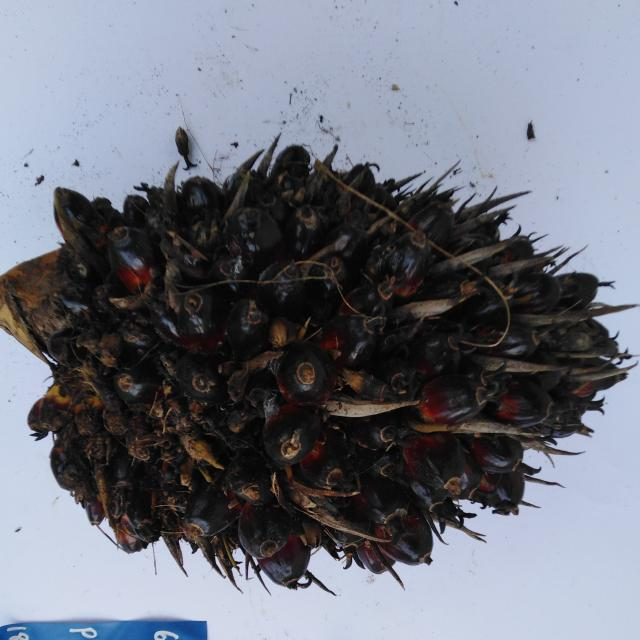FFB: (47, 145, 616, 581)
